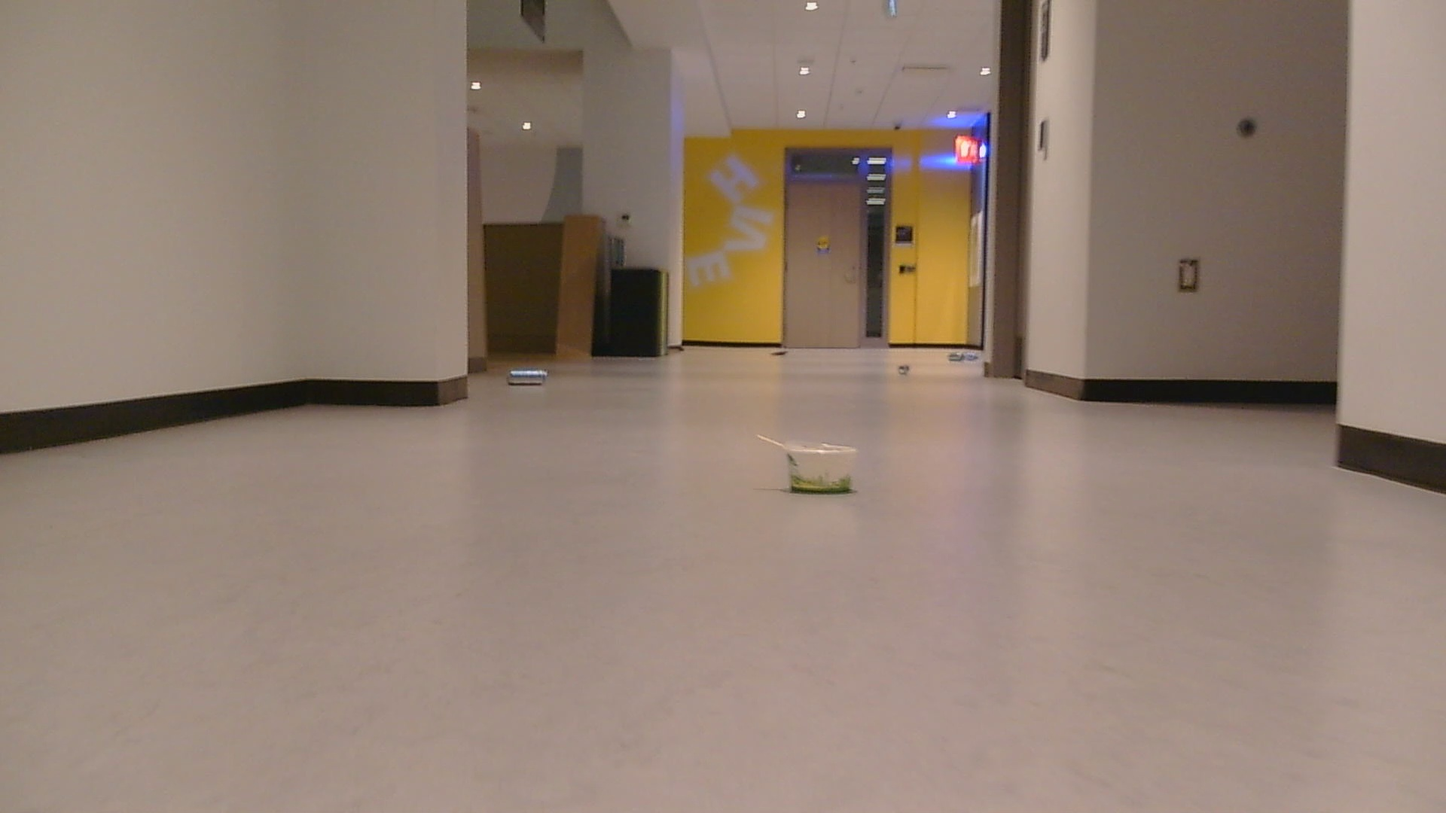can: (821, 469, 826, 471)
carton: (773, 429, 873, 506), (502, 363, 567, 398), (950, 340, 992, 370), (895, 361, 923, 384), (774, 345, 789, 359)
